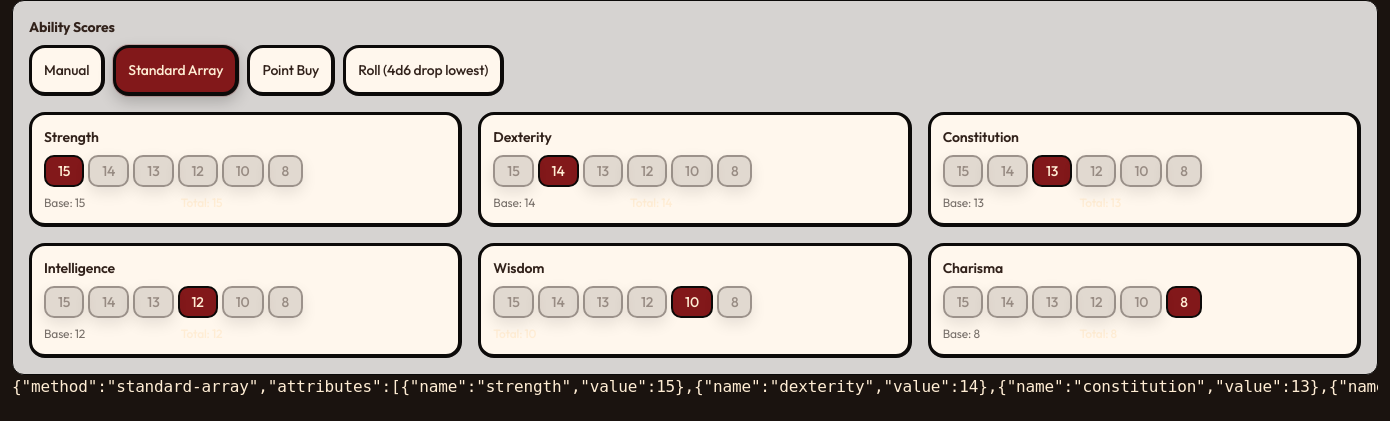
Scenario: AbilityScoresField › preserves filled scores when switching generation methods
The width and height of the screenshot is (1390, 421).
Click the button "Manual".
click(67, 70)  # box [29, 45, 105, 96]
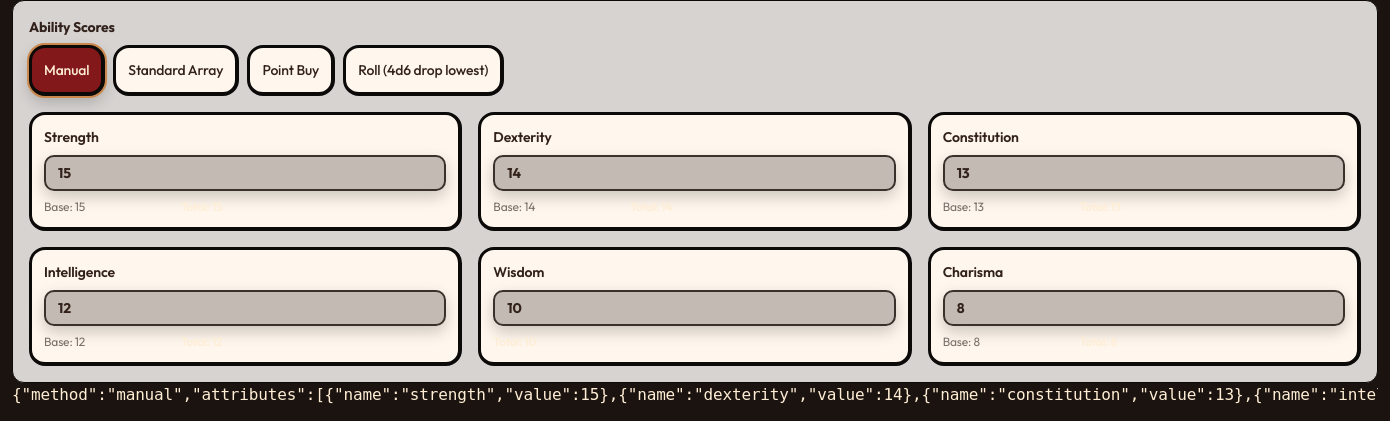
Expected: the text "Strength" is shown, [44, 128, 99, 146]
Expected: the 1st number field holds "15", [44, 155, 446, 191]
